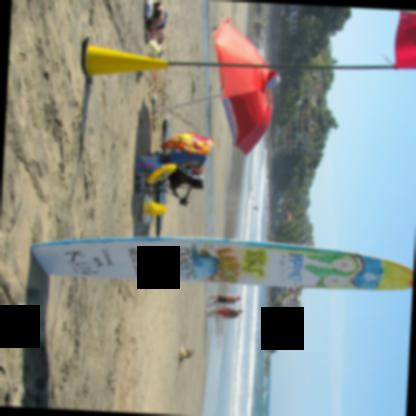handbag: (134, 154, 160, 177)
